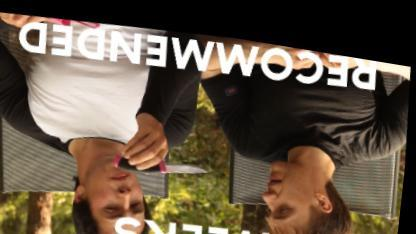knife: (108, 133, 222, 182)
